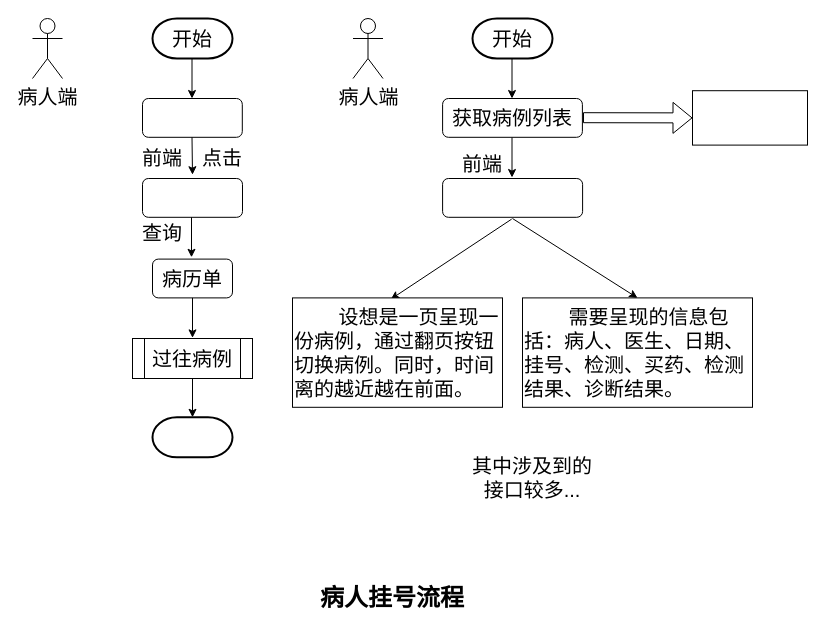
Some shapes in this 825 by 635 pixel diagram are drawn without their labels. The centre of each missing label's shape, as x and y in pixels:
个人信息: (x=192, y=197)
呈现病例信息: (x=512, y=197)
导航页面: (x=192, y=117)
结束: (x=192, y=437)
获得过往病例信息接口: (x=750, y=117)
